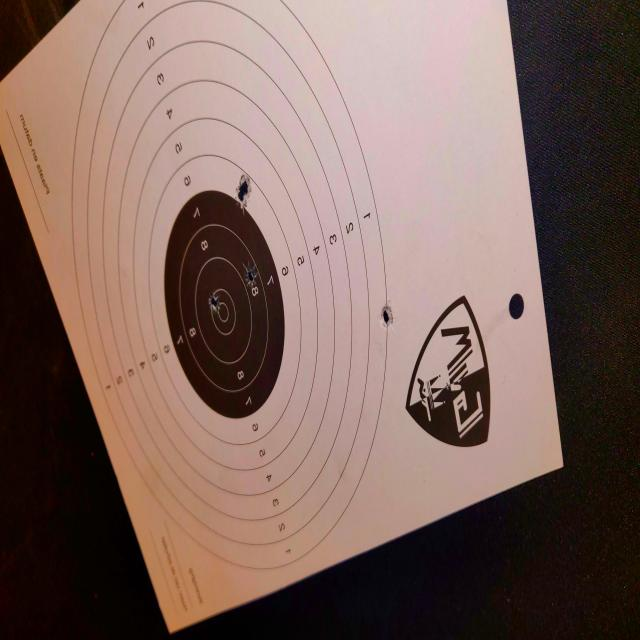1: (381, 304, 394, 330)
10: (208, 292, 220, 314)
6: (240, 173, 251, 195)
7: (235, 188, 247, 215)
8: (244, 264, 257, 288)
Target: (71, 0, 388, 573)
black_contour: (164, 189, 285, 417)
